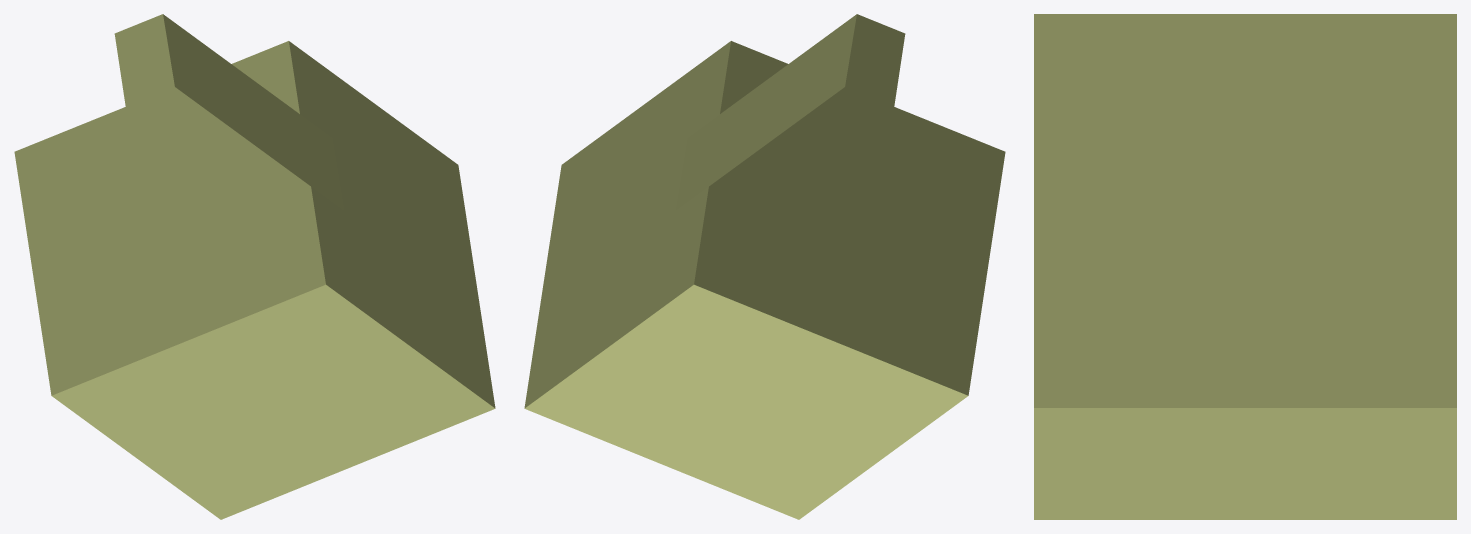
3 views of the same model, side by side, from view 1: azimuth 30°, elevation 25°; view 2: azimuth 150°, elevation 25°; view 3: azimuth 270°, elevation 25° (orthographic). The views are drawn at different scales.
Visible parts, largest first — view 1: 0_1_2_0_3_1_2_3_0_0; view 2: 0_1_2_0_3_1_2_3_0_0; view 3: 0_1_2_0_3_1_2_3_0_0.
Part boxes in pixels (x1,y1,x2,y2): 0_1_2_0_3_1_2_3_0_0: (14, 14, 495, 519); 0_1_2_0_3_1_2_3_0_0: (524, 14, 1005, 519); 0_1_2_0_3_1_2_3_0_0: (1034, 14, 1456, 519).
Bounding box in the file's own units: 6.37 × 6.92 × 6.
